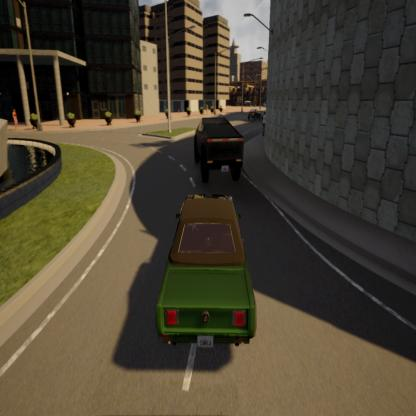Cars: (151, 190, 266, 366), (183, 111, 247, 188), (245, 103, 263, 122)
Pedestrian: (257, 109, 272, 138)
